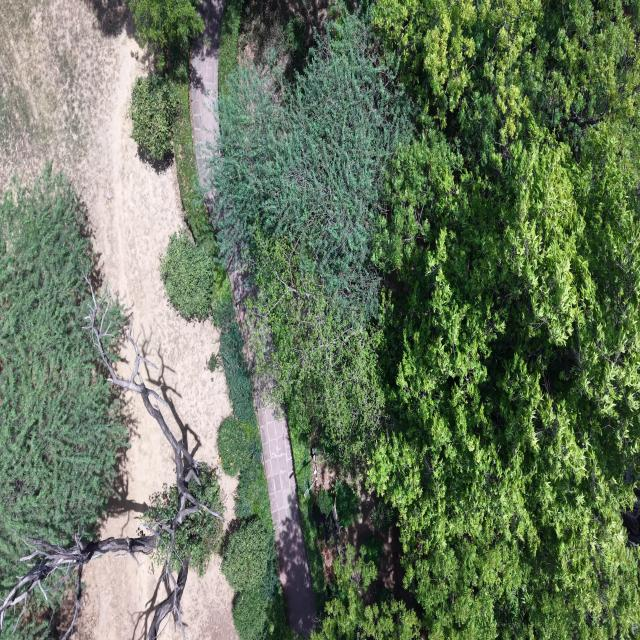DRY_AREA: (0, 0, 231, 466), (254, 377, 316, 637)
PATHWAYS: (254, 379, 315, 636)
VEGETATION_TREE: (214, 0, 639, 639), (215, 0, 639, 639), (369, 0, 639, 638), (369, 125, 639, 637), (215, 23, 410, 613), (0, 165, 222, 639), (0, 167, 221, 638), (0, 168, 221, 638), (213, 19, 410, 458), (0, 277, 223, 639), (3, 288, 224, 639), (217, 48, 403, 448), (161, 73, 286, 639), (214, 20, 409, 321), (0, 165, 127, 593), (161, 211, 287, 639), (372, 0, 639, 173), (129, 0, 232, 326), (248, 238, 383, 460), (130, 59, 230, 298), (218, 314, 288, 639), (132, 0, 217, 258), (161, 70, 234, 327), (130, 59, 218, 258), (218, 403, 287, 639), (167, 60, 230, 307), (292, 438, 361, 619), (292, 437, 360, 617), (311, 545, 420, 639), (172, 65, 216, 255), (221, 519, 286, 639), (236, 0, 327, 82), (218, 416, 273, 538), (291, 438, 326, 614), (127, 0, 204, 71), (161, 230, 218, 320), (130, 75, 177, 162), (219, 320, 257, 426), (235, 424, 272, 531), (222, 519, 276, 591), (172, 511, 223, 576), (218, 0, 243, 94), (218, 415, 253, 476), (315, 482, 360, 526), (212, 264, 235, 332), (283, 15, 308, 72), (334, 482, 360, 526), (283, 15, 306, 55), (359, 535, 384, 569), (371, 503, 397, 533), (316, 488, 334, 516), (208, 353, 219, 373)
